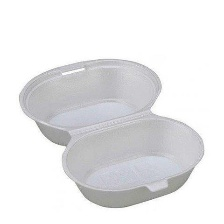foam_box: (14, 51, 208, 212)
